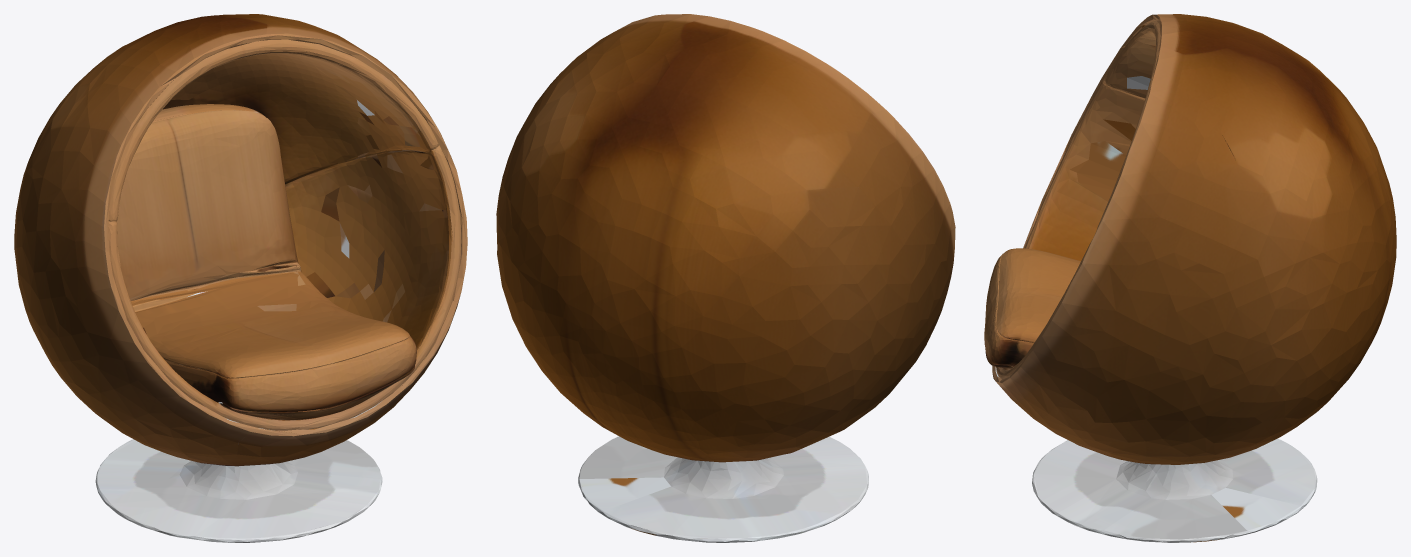
Rendered from edited_mesh.glb.
The picture shows the model from 3 angles, left to right: view 1: azimuth 30°, elevation 25°; view 2: azimuth 150°, elevation 25°; view 3: azimuth 270°, elevation 25°; orthographic projection.
Visible parts, largest first — view 1: solid_001_wire; view 2: solid_001_wire; view 3: solid_001_wire.
Part boxes in pixels (x1,y1,x2,y2): solid_001_wire: [14, 14, 467, 542]; solid_001_wire: [496, 14, 955, 542]; solid_001_wire: [984, 14, 1396, 542].
Bounding box in the file's own units: 1.25 × 1.37 × 1.15.
Materials: 1 (1 with a texture image).
